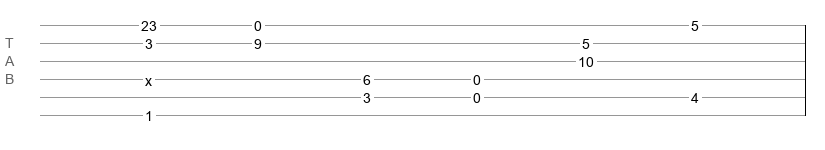0: (254, 18, 262, 28), (473, 90, 481, 100), (473, 72, 481, 82)
1: (145, 108, 153, 118)
10: (578, 54, 594, 64)
23: (141, 18, 157, 28)
3: (145, 36, 153, 46), (363, 90, 371, 100)
4: (691, 90, 699, 100)
5: (582, 36, 590, 46), (691, 18, 699, 28)
6: (363, 72, 371, 82)
9: (254, 36, 262, 46)
x: (145, 73, 152, 81)
